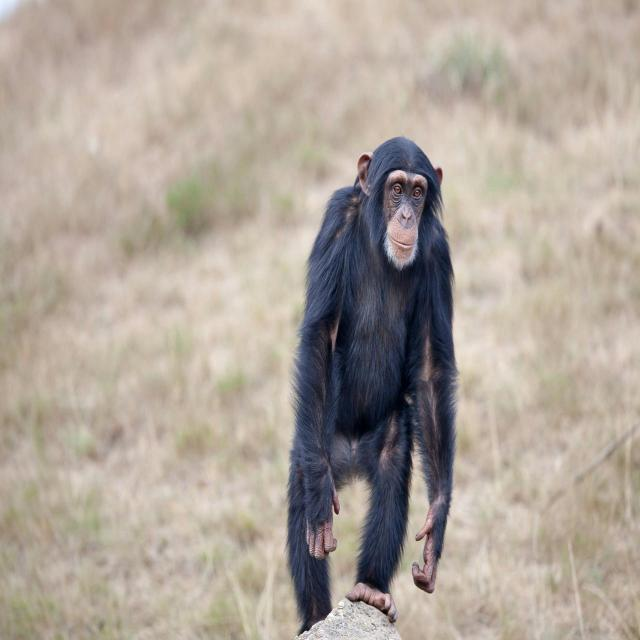Chimpanzee: (276, 139, 462, 637)
